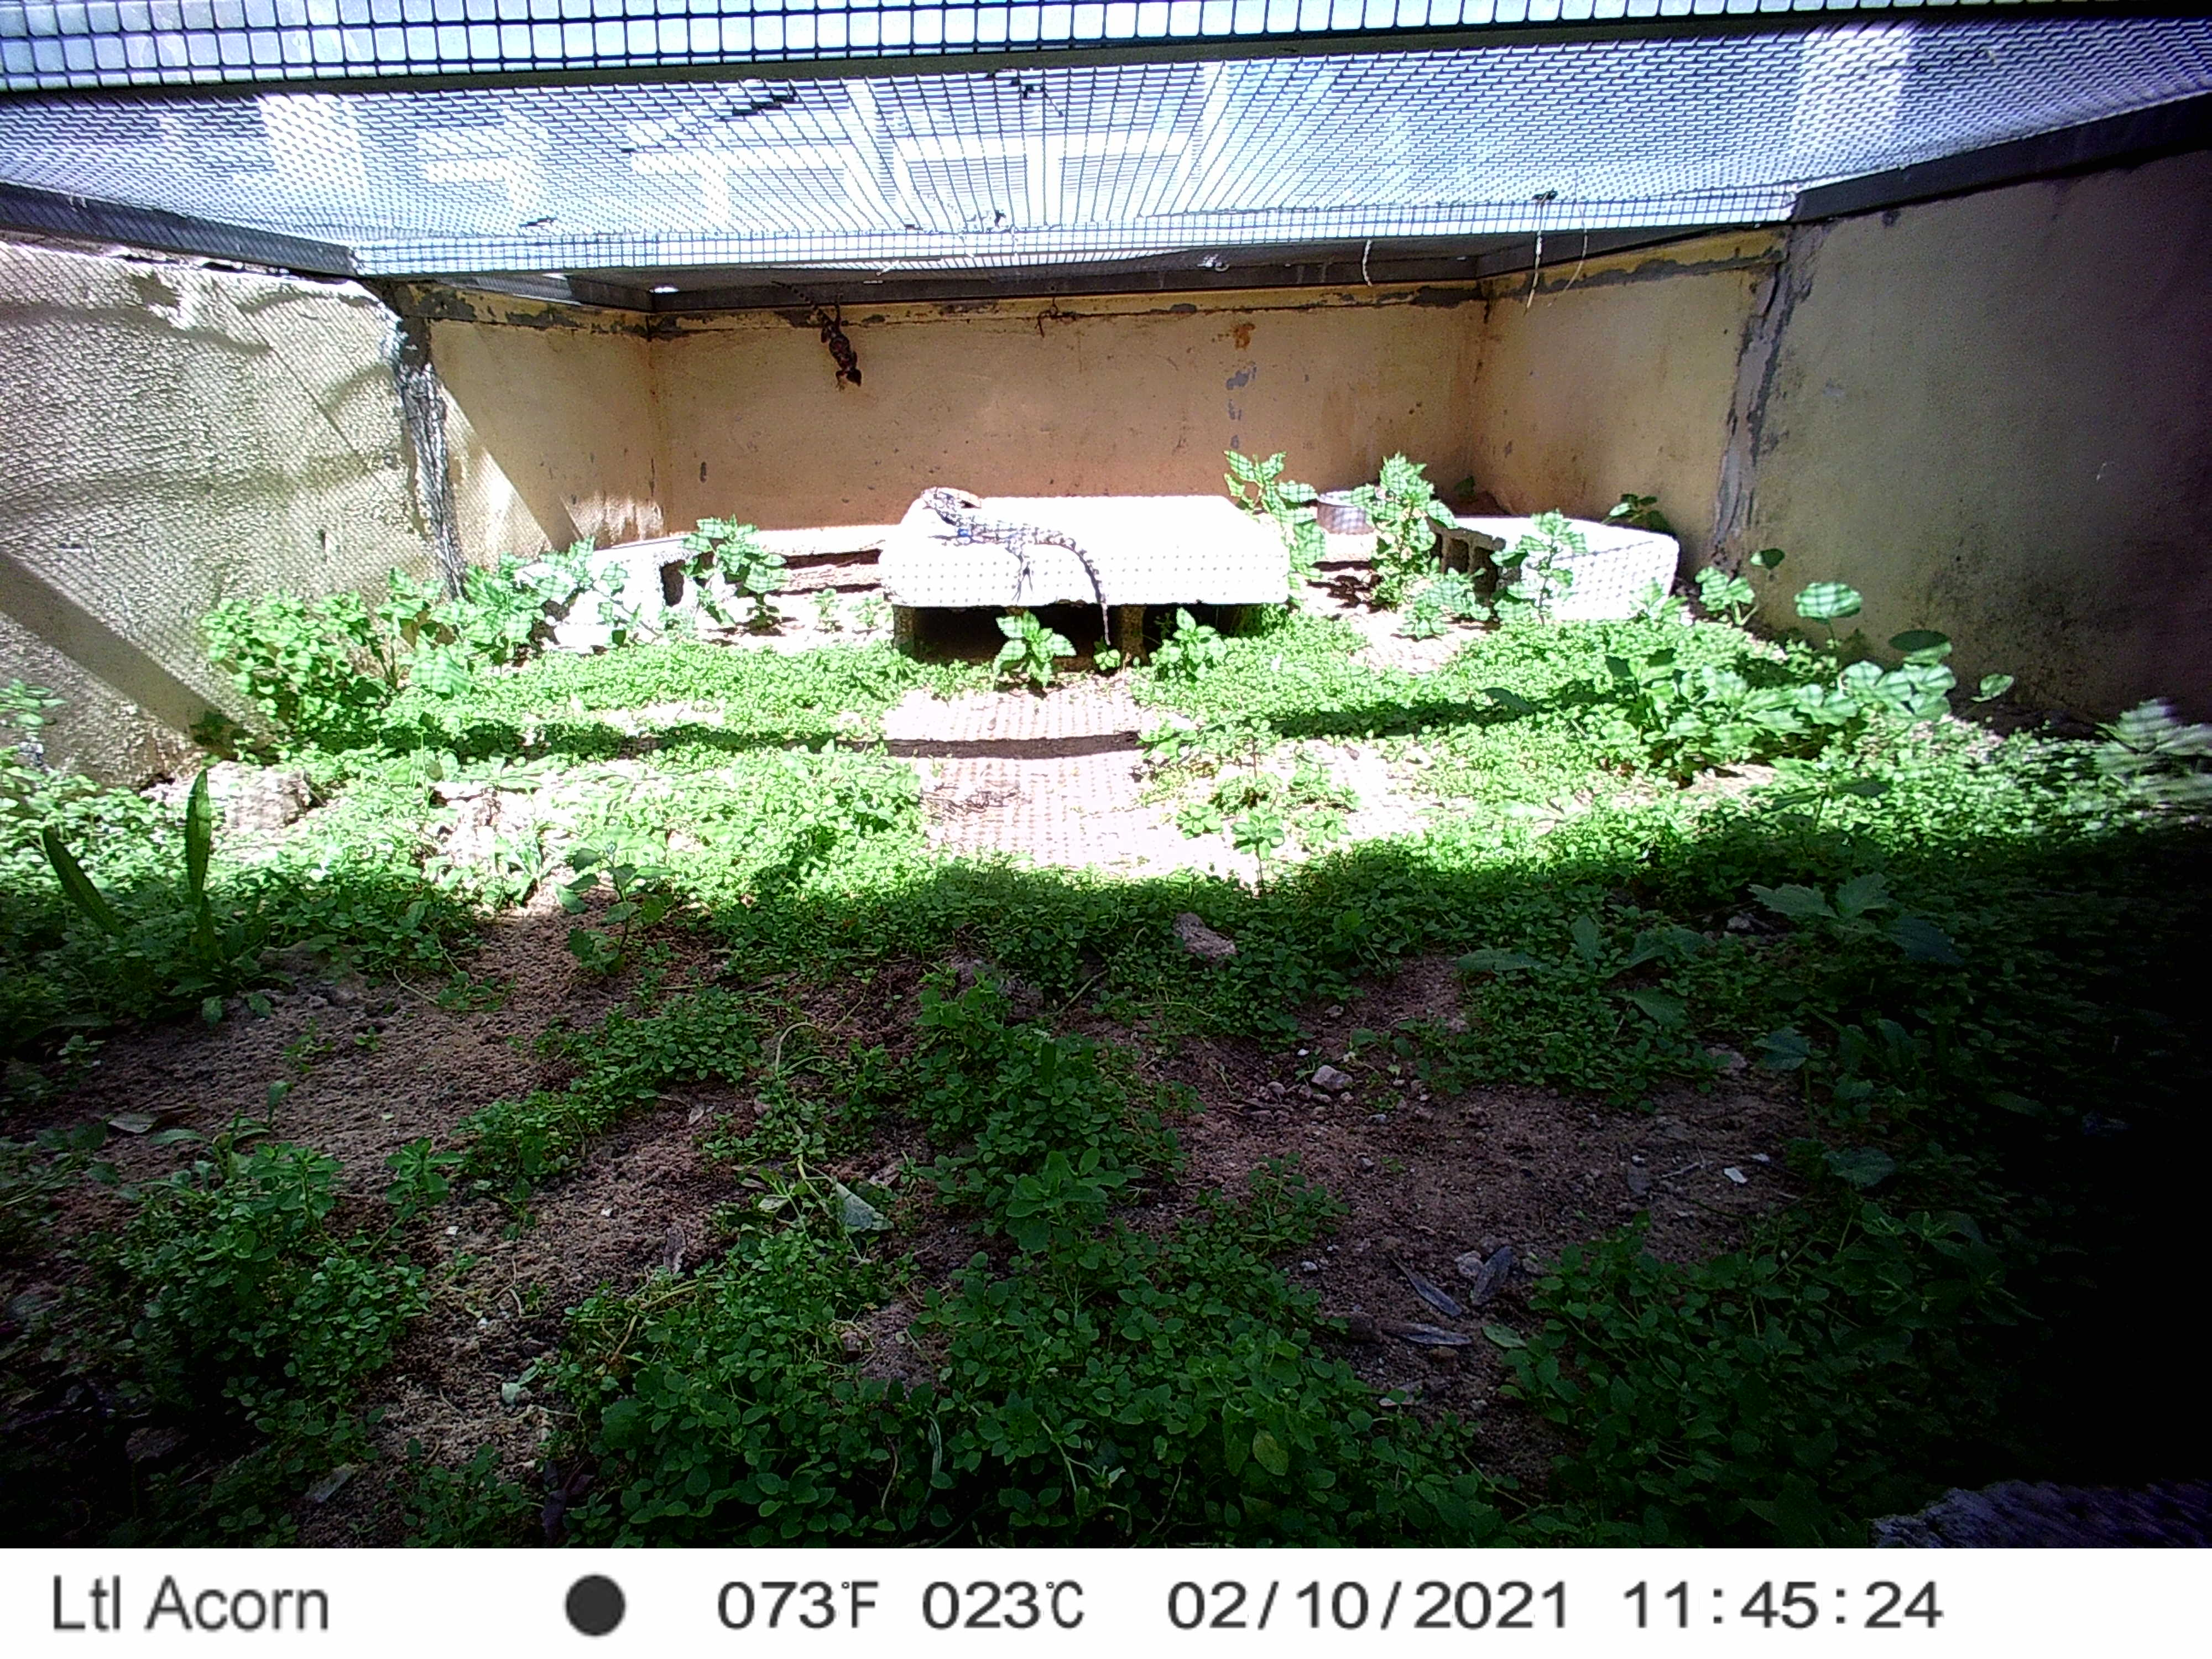lizard: (921, 483, 1118, 648), (768, 274, 867, 392)
